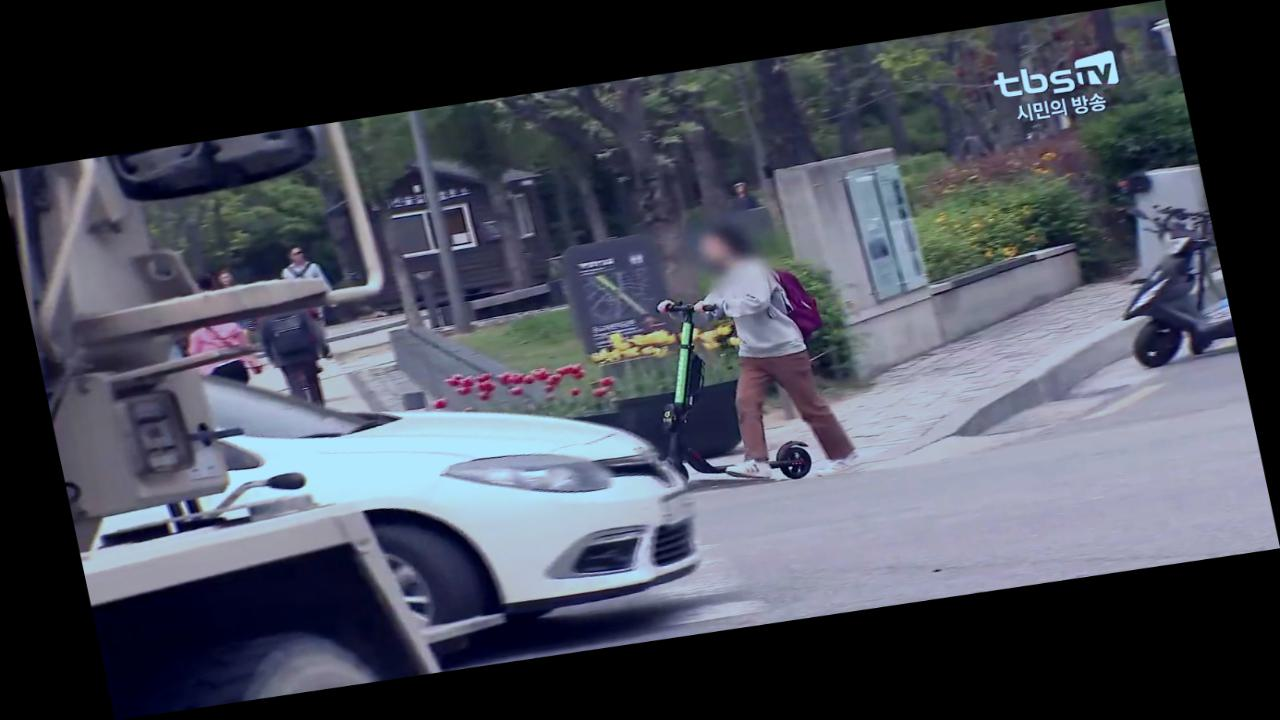nonhelmet: (610, 204, 877, 502)
